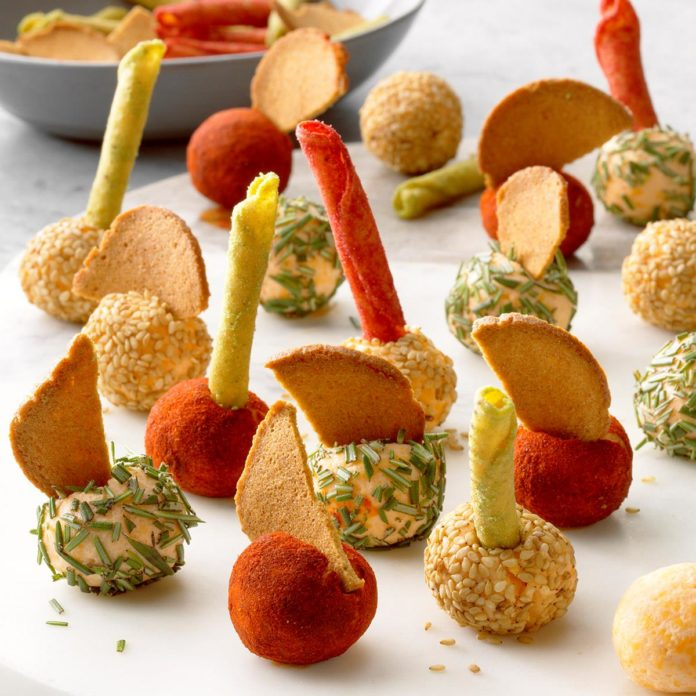cheese: (39, 461, 180, 600), (585, 596, 696, 690), (268, 23, 359, 120)
